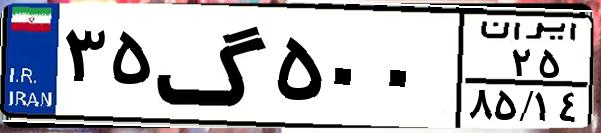0: (385, 28, 445, 110), (330, 28, 385, 110)
1: (535, 70, 560, 125)
2: (508, 27, 537, 80)
3: (57, 26, 110, 100)
4: (560, 70, 590, 125)
5: (270, 28, 330, 110), (110, 28, 156, 98), (537, 27, 568, 80), (495, 70, 520, 125)
8: (470, 70, 495, 125)
گ: (156, 12, 270, 120)
